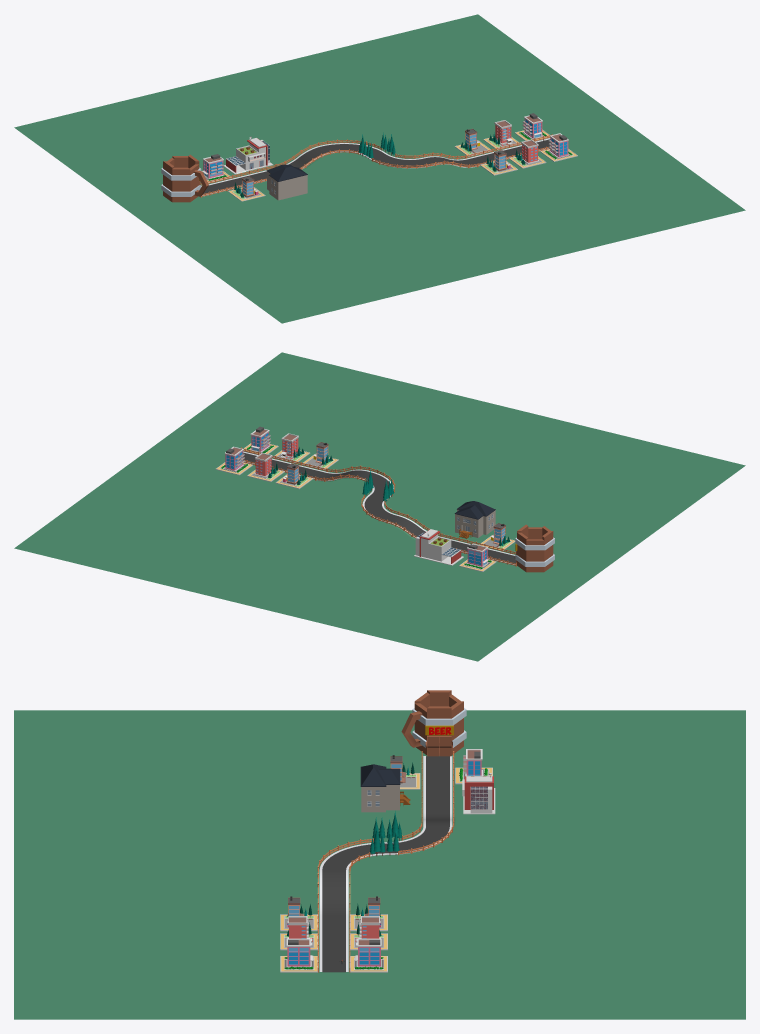
Rendered from drunk-scene-collected.fbx.
3 views of the same model, one above another, from view 1: azimuth 30°, elevation 25°; view 2: azimuth 150°, elevation 25°; view 3: azimuth 270°, elevation 25° (orthographic). The views are drawn at different scales.
Visible parts, largest first — view 1: Plane, mug, House_3_3, House_2, House_2_2, roadStraight_1, roadCornerLarge_2, Cube_3, roadStraight_1_2, roadCornerLarge; view 2: Plane, mug, House_3_3, House_2_2, Cube_3, House_2, roadCornerLarge, roadStraight_1_2, roadStraight_1; view 3: Plane, mug, roadStraight_1, roadStraight_1_2, roadRampLongCurved_2, House_3_3, roadCornerLarge, roadCornerLarge_2, House_2_2, House_2, Roof, Cube_4_2 (+1 smaller).
Boxes of the visible parts, <box> form: Plane: <box>14,14,745,323</box>; mug: <box>161,154,208,202</box>; House_3_3: <box>522,113,569,157</box>; House_2: <box>267,171,307,200</box>; House_2_2: <box>494,120,539,164</box>; roadStraight_1: <box>201,168,270,197</box>; roadCornerLarge_2: <box>367,153,434,169</box>; Cube_3: <box>236,138,265,170</box>; roadStraight_1_2: <box>467,138,550,167</box>; roadCornerLarge: <box>319,142,387,158</box>; Plane: <box>14,352,745,661</box>; mug: <box>515,524,554,572</box>; House_3_3: <box>224,426,270,471</box>; House_2_2: <box>254,433,298,477</box>; Cube_3: <box>421,529,451,561</box>; House_2: <box>455,509,495,537</box>; roadCornerLarge: <box>360,494,398,523</box>; roadStraight_1_2: <box>243,451,325,480</box>; roadStraight_1: <box>441,537,515,566</box>; Plane: <box>14,710,745,1019</box>; mug: <box>401,690,466,755</box>; roadStraight_1: <box>420,756,455,813</box>; roadStraight_1_2: <box>316,915,351,972</box>; roadRampLongCurved_2: <box>317,870,351,915</box>; House_3_3: <box>286,938,381,967</box>; roadCornerLarge: <box>386,826,455,856</box>; roadCornerLarge_2: <box>317,841,385,870</box>; House_2_2: <box>287,916,380,945</box>; House_2: <box>361,785,399,812</box>; Roof: <box>360,764,400,786</box>; Cube_4_2: <box>464,776,493,809</box>.
Bounding box in the file's own units: 13555 × 1016 × 13555.
20 materials, 2 textured.
